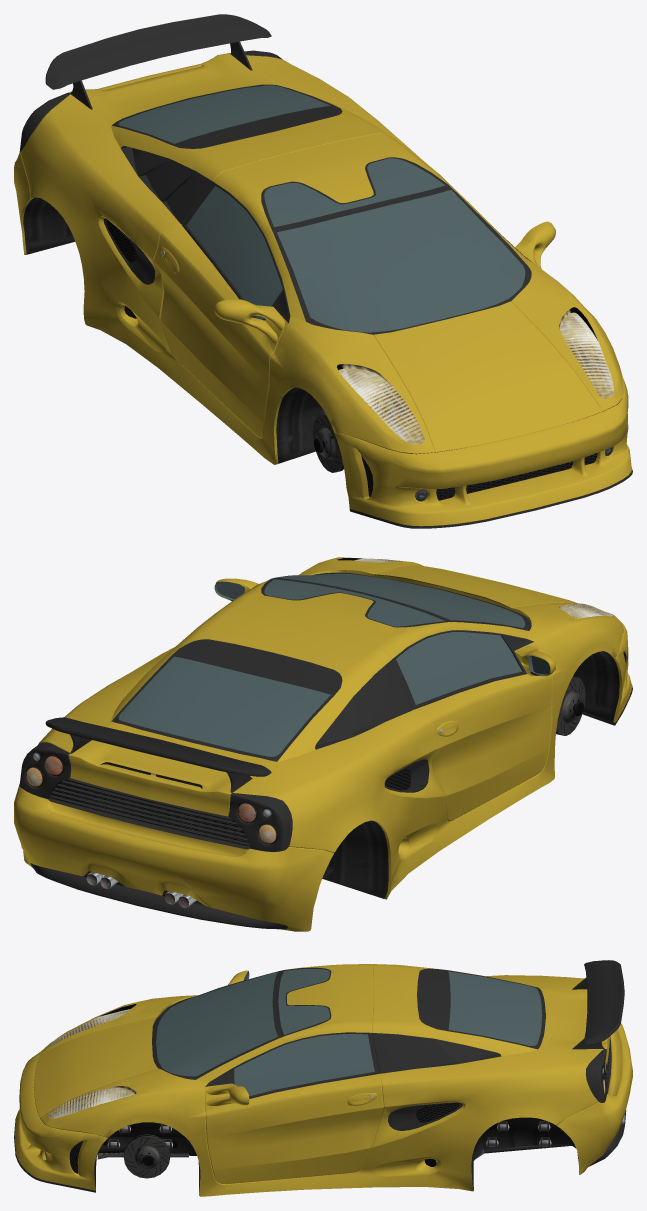
File: Body.obj
3 views of the same model, one above another, from view 1: azimuth 30°, elevation 25°; view 2: azimuth 150°, elevation 25°; view 3: azimuth 270°, elevation 25° (orthographic). The views are drawn at different scales.
Parts seen in each view (by area): view 1: Body; view 2: Body; view 3: Body.
Part boxes in pixels (bbox=[...]): Body: bbox=[14, 14, 632, 528]; Body: bbox=[14, 557, 632, 931]; Body: bbox=[14, 960, 632, 1196].
Bounding box in the file's own units: 18.84 × 10.67 × 39.01.
Materials: 7 (7 with a texture image).
